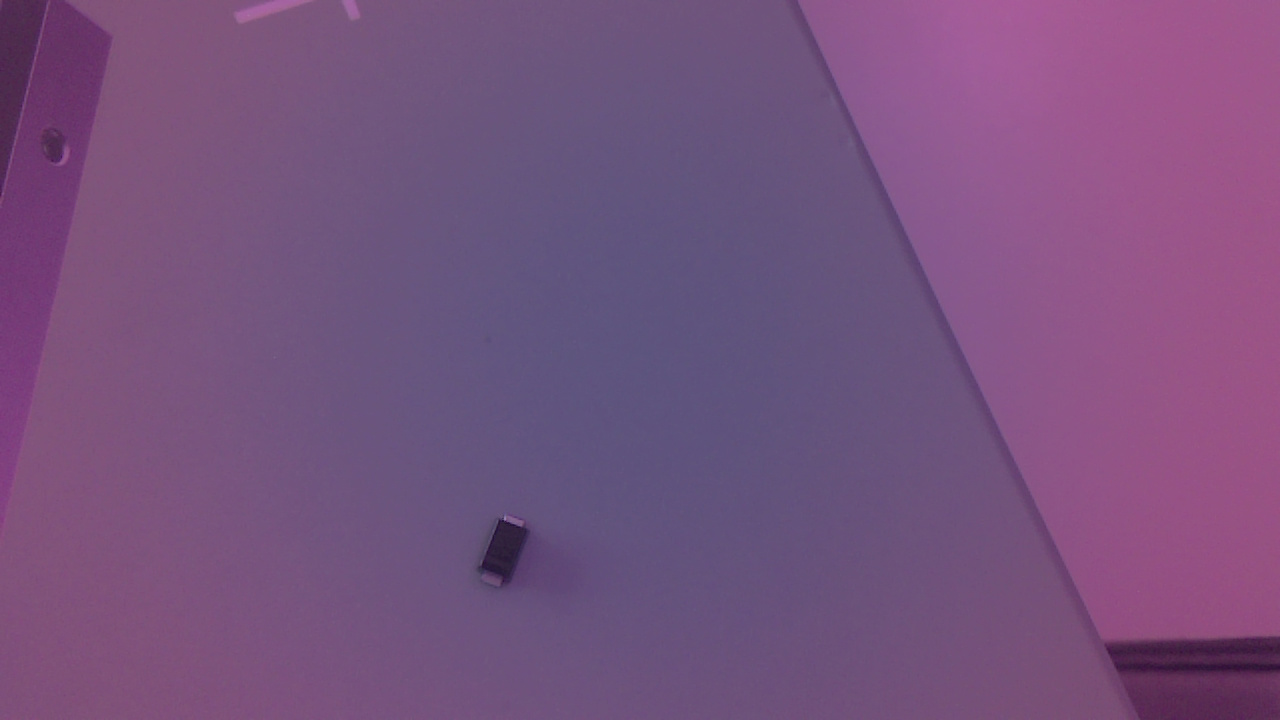Diode: (480, 517, 543, 596)
